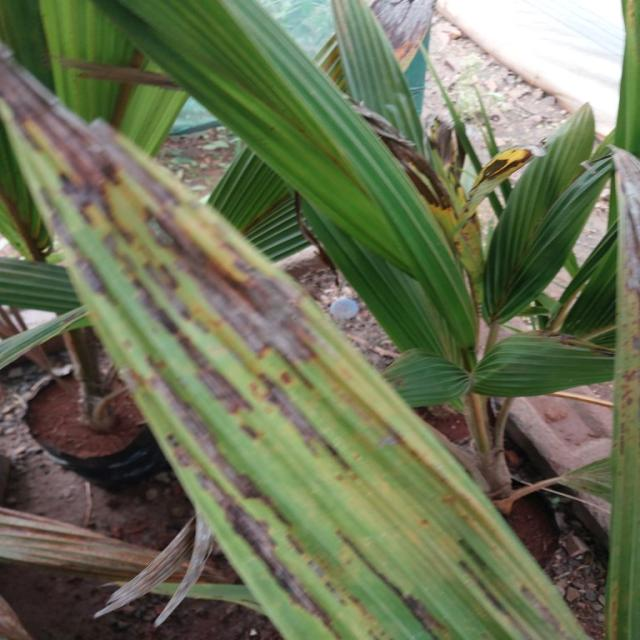gray leaf spot: (0, 68, 590, 640)
